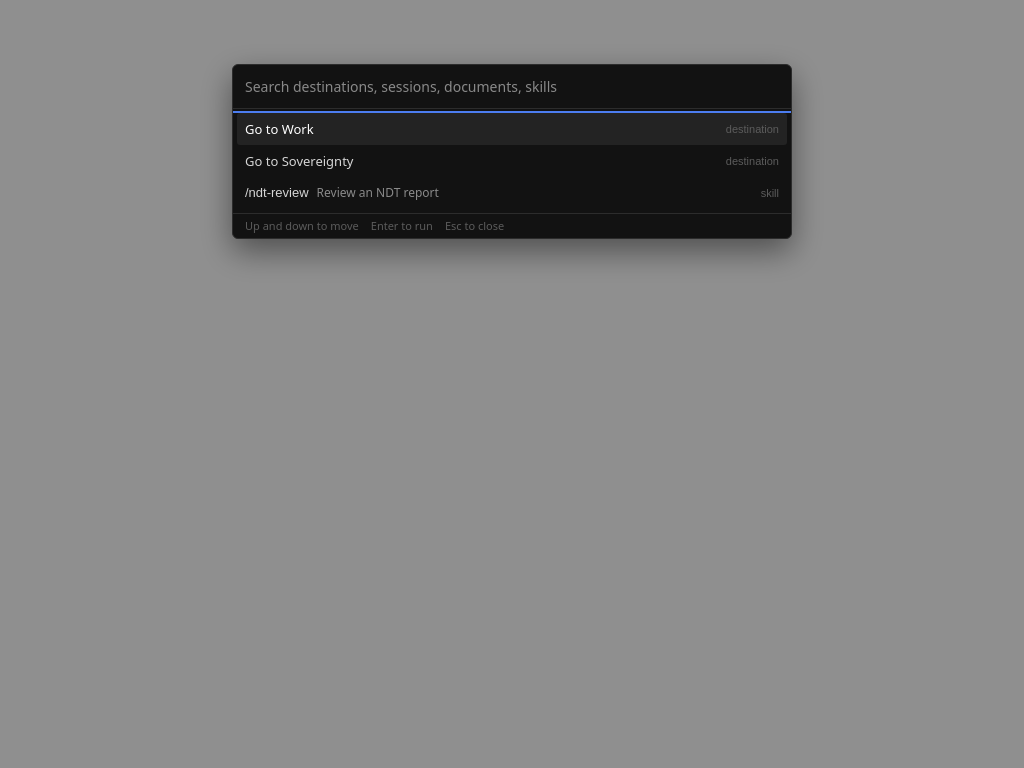
CommandPalette › filters entries as you type
Step 1. Type "sov" into the dropdown → x=512, y=87, box [233,65,791,109]
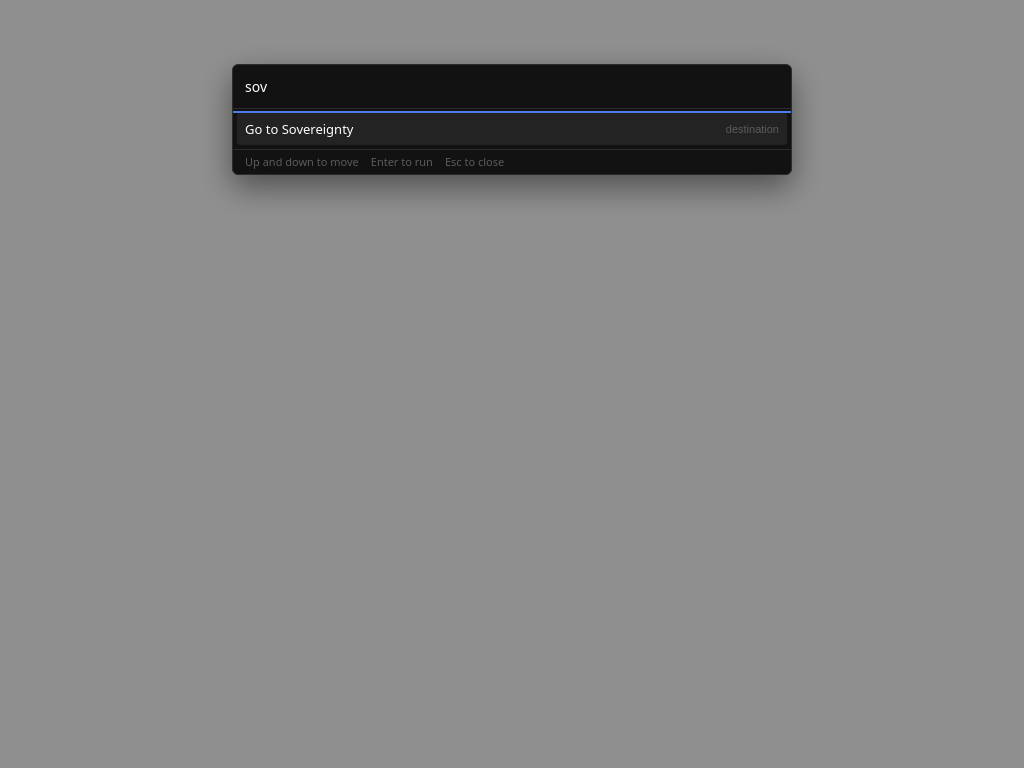
Expected: the text "Go to Sovereignty" is shown, [245,119,354,139]
Now the option "Go to Work" is gone
